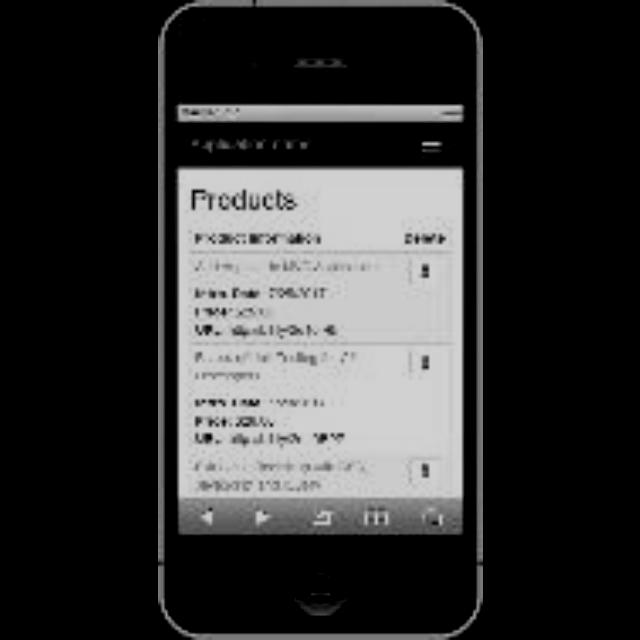fake: (164, 0, 503, 615)
